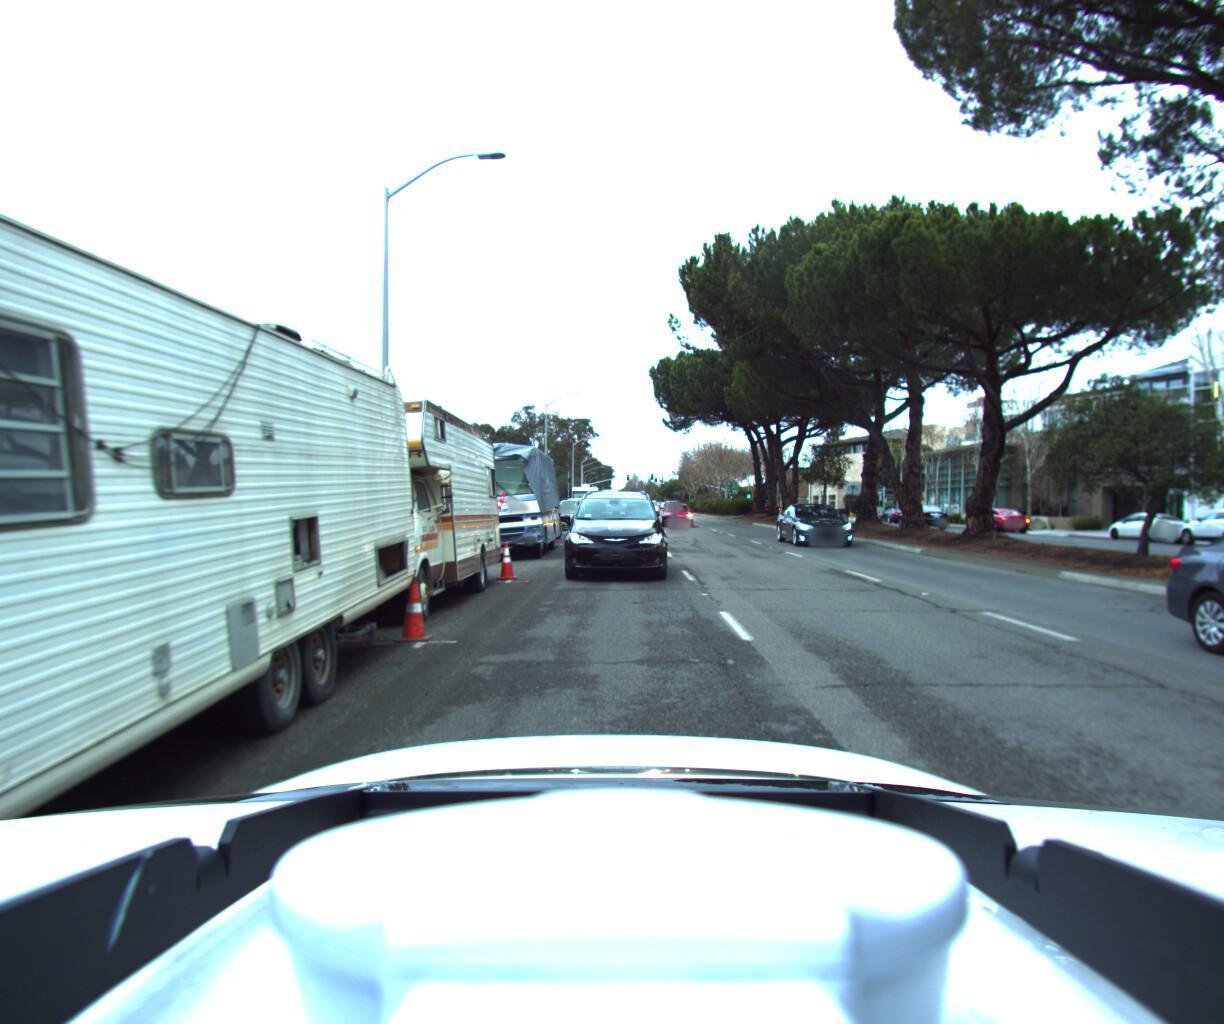car: (557, 486, 663, 582), (780, 500, 868, 547), (1101, 511, 1192, 546), (1170, 507, 1224, 552), (960, 505, 1029, 531), (889, 501, 951, 527), (536, 504, 574, 531), (659, 502, 693, 528), (555, 497, 585, 525)
other_vehicle: (0, 0, 427, 1024), (199, 400, 499, 633), (434, 443, 559, 558), (566, 485, 597, 518)
